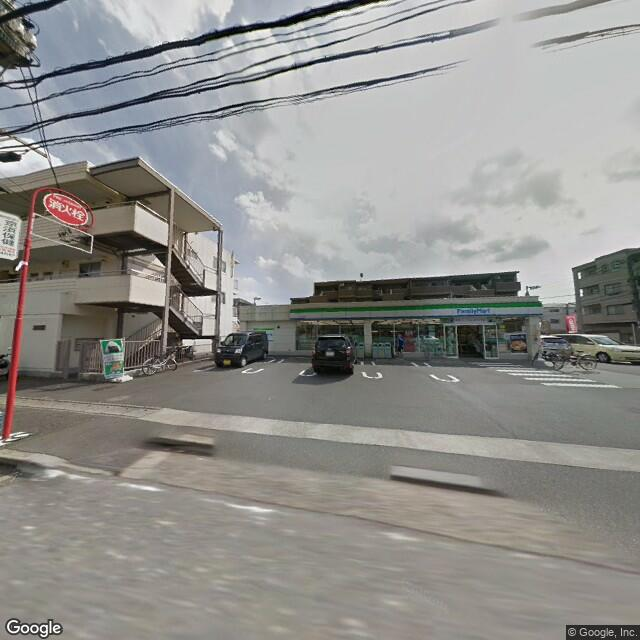family_mart: (290, 298, 545, 324)
